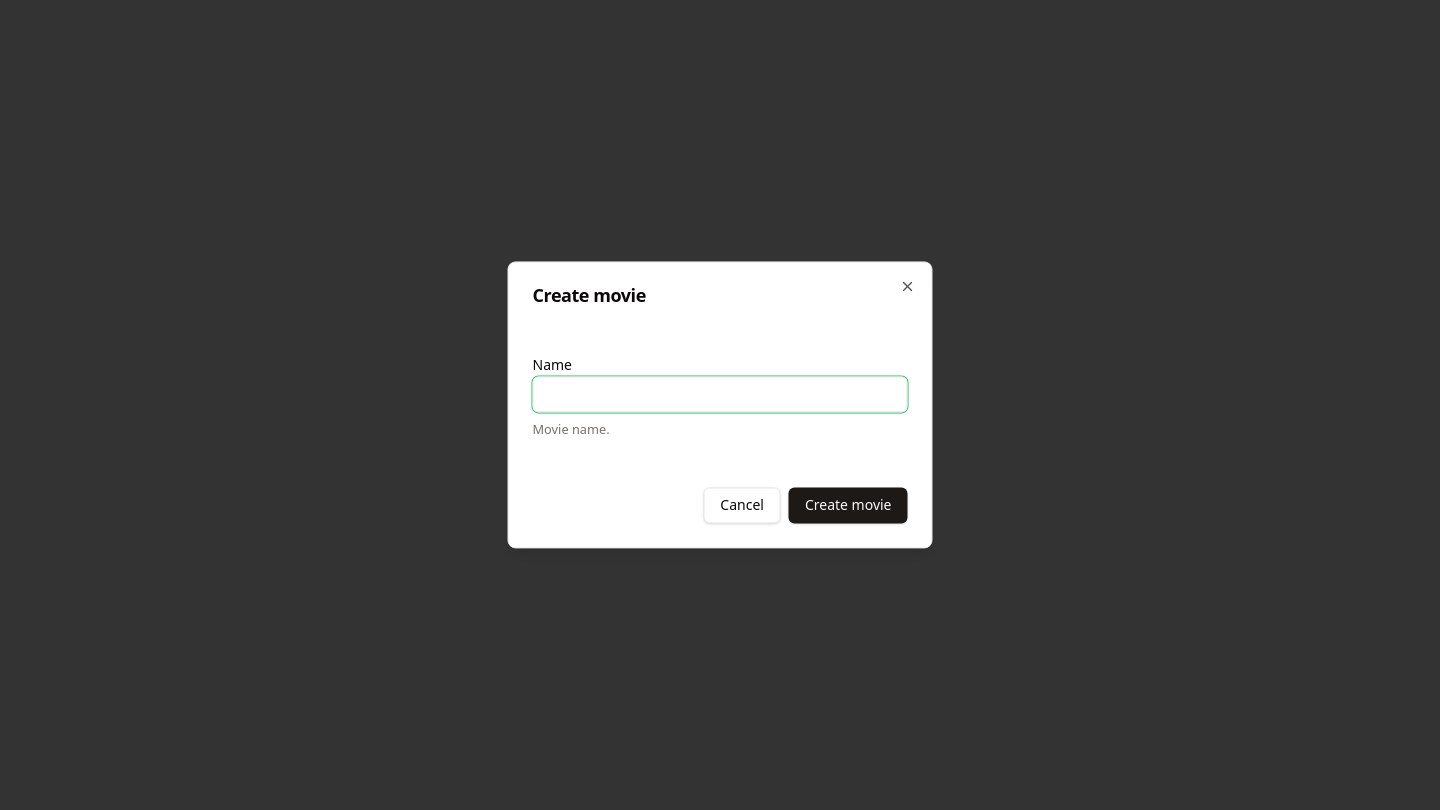
it: CreateMovieDialog › rejects a name that is too short without submitting
In the field labelled "Name": (720, 394) left=532, top=376, right=908, bottom=412, type "A"
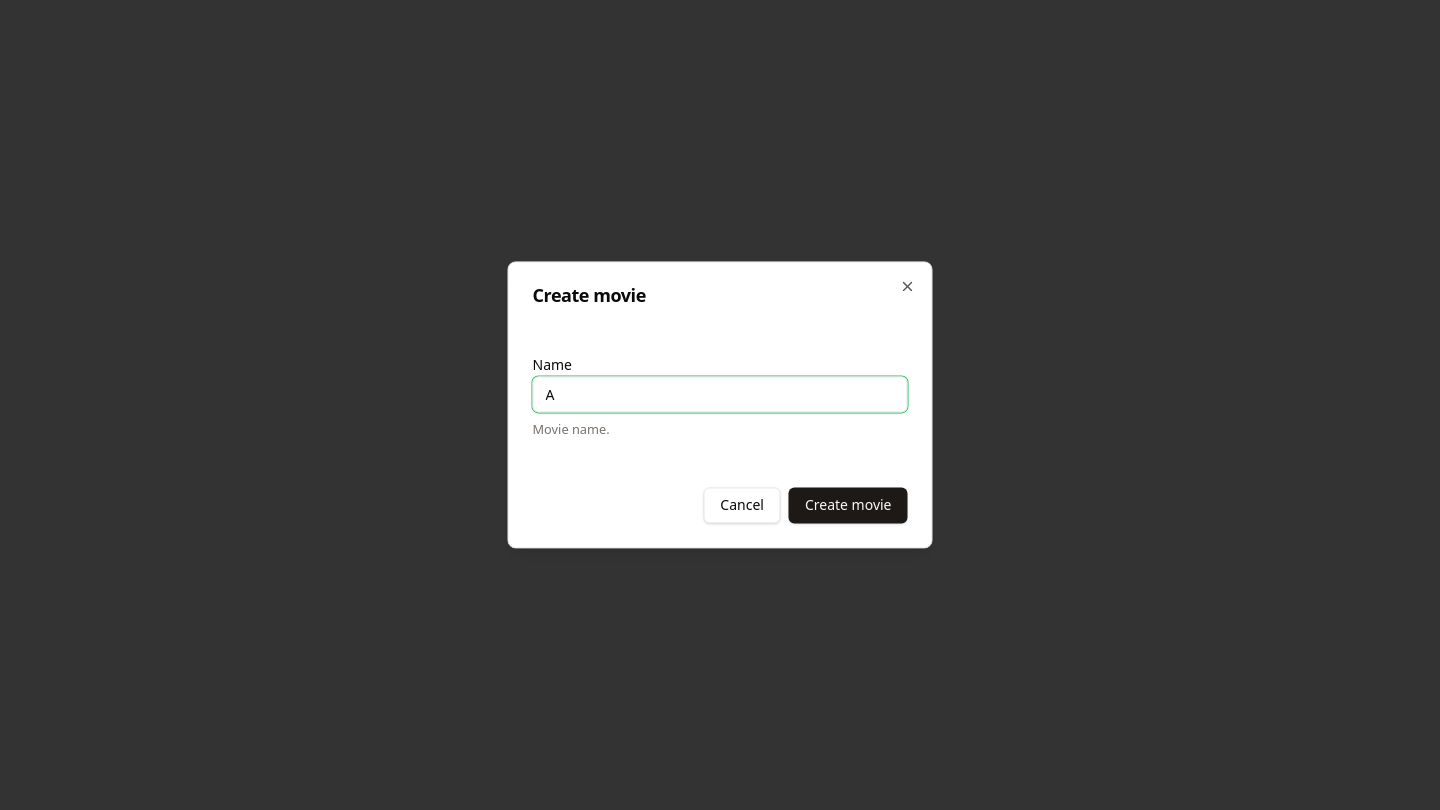
Click the button "Create movie": (848, 506) left=789, top=488, right=908, bottom=524
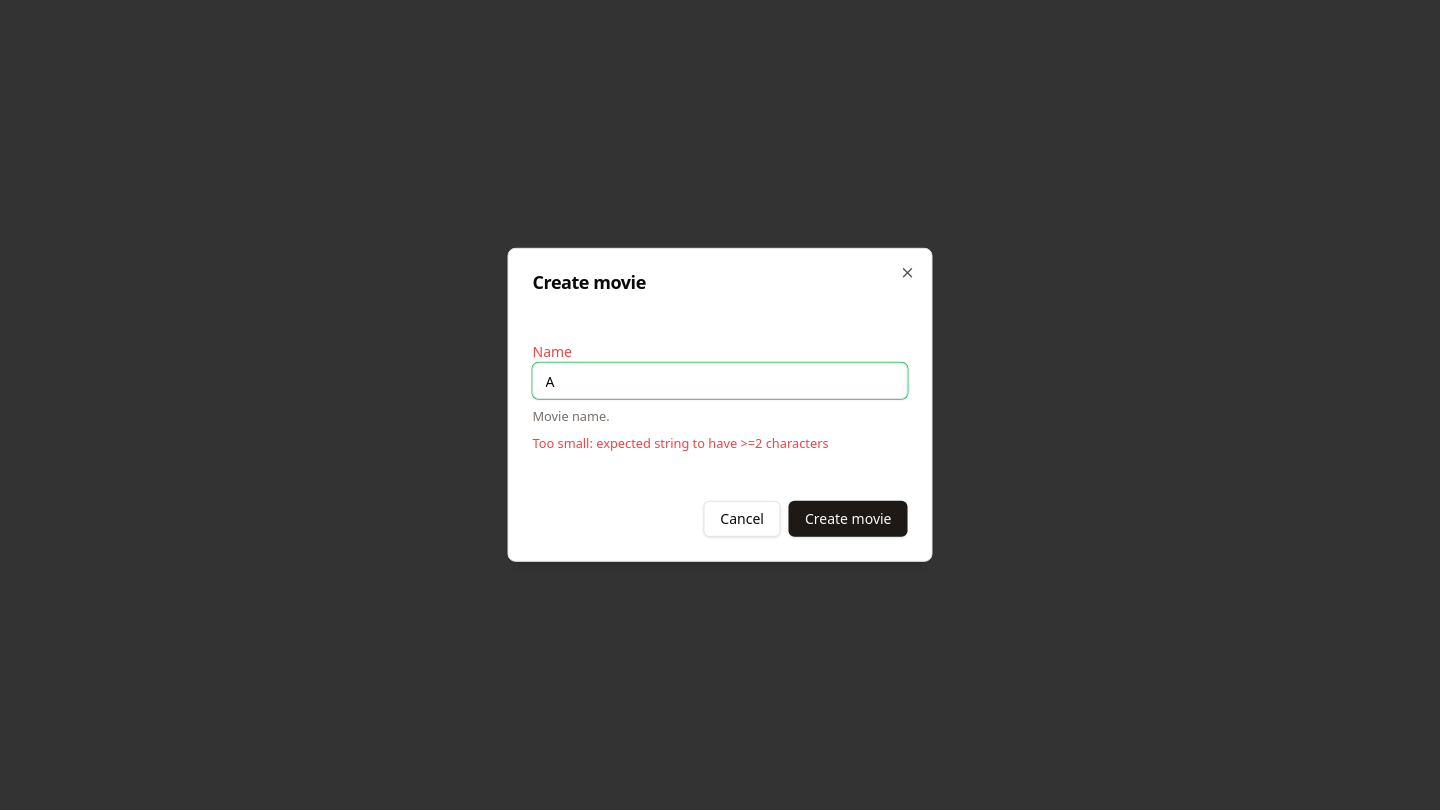
Now the text "Too small" is shown, box left=532, top=434, right=828, bottom=452
